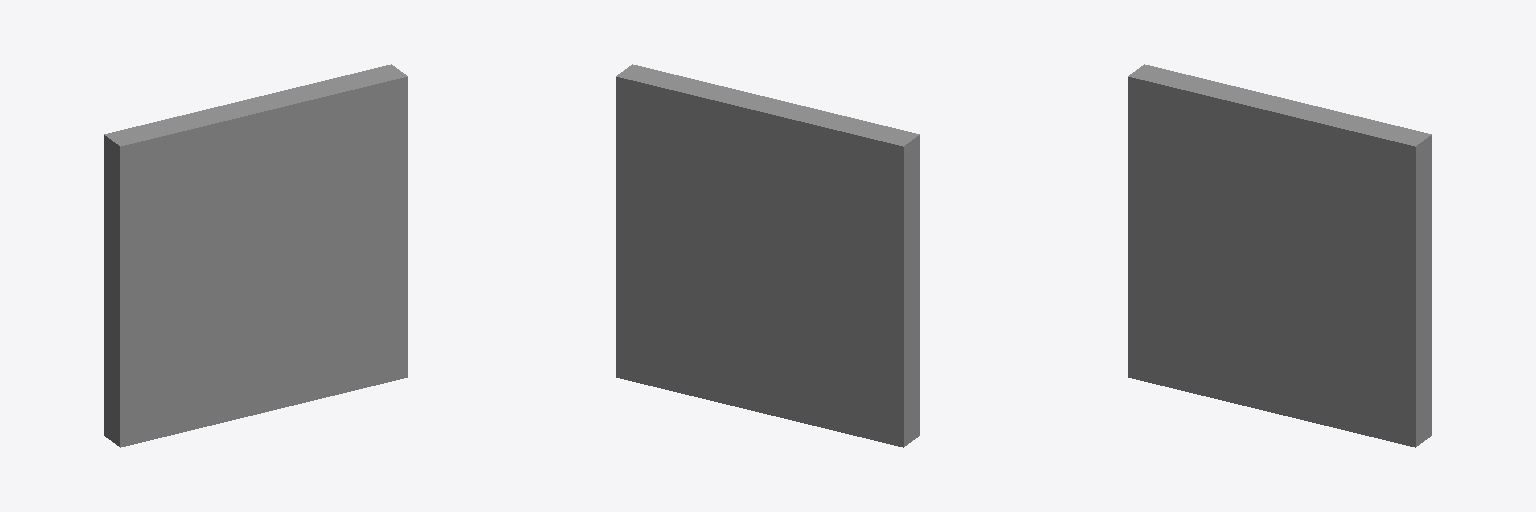
File: noiseCube.obj
3 views of the same model, side by side, from view 1: azimuth 30°, elevation 25°; view 2: azimuth 150°, elevation 25°; view 3: azimuth 330°, elevation 25° (orthographic).
Parts seen in each view (by area): view 1: noiseCube; view 2: noiseCube; view 3: noiseCube.
Boxes of the visible parts, x1,y1,x2,y2 form: noiseCube: [104, 64, 407, 447]; noiseCube: [616, 64, 919, 447]; noiseCube: [1128, 64, 1431, 447].
Bounding box in the file's own units: 10 × 10 × 1.